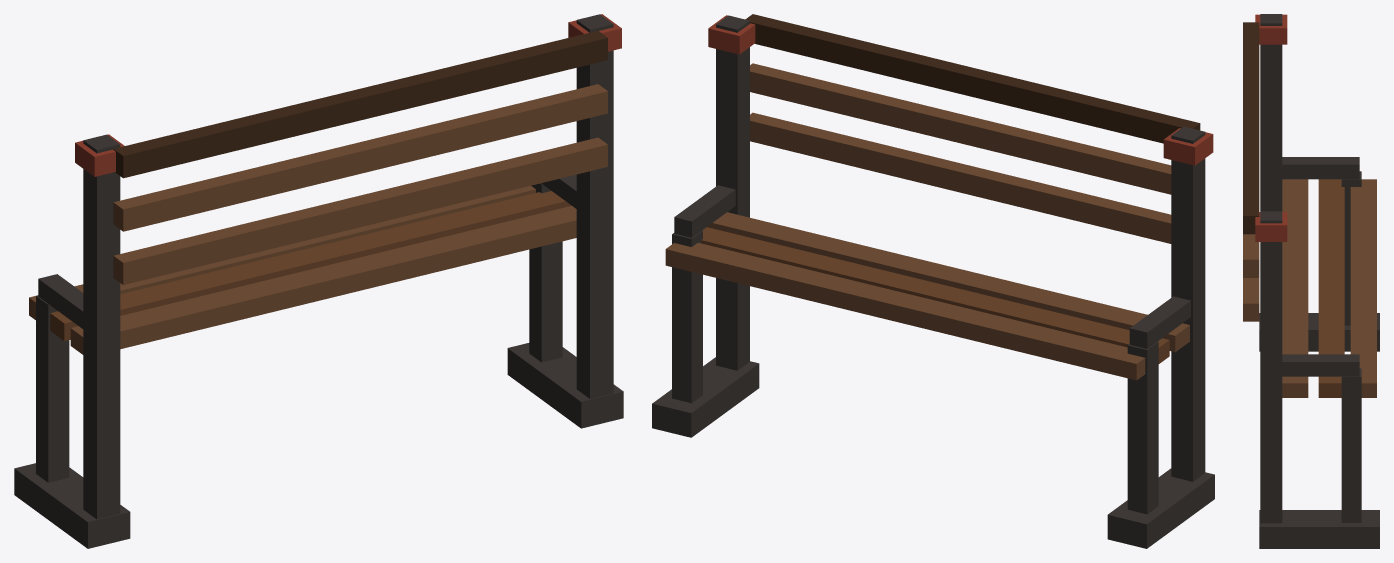
Rendered from vn_deco_plaza_bench.glb.
The picture shows the model from 3 angles, left to right: view 1: azimuth 30°, elevation 25°; view 2: azimuth 150°, elevation 25°; view 3: azimuth 270°, elevation 25°; orthographic projection. The views are drawn at different scales.
Parts seen in each view (by area): view 1: plaza_bench_wood, plaza_bench_iron; view 2: plaza_bench_wood, plaza_bench_iron; view 3: plaza_bench_iron, plaza_bench_wood.
Part boxes in pixels (x1=…): plaza_bench_wood: x1=29, y1=30, x2=607, y2=354; plaza_bench_iron: x1=14, y1=14, x2=623, y2=548; plaza_bench_wood: x1=665, y1=14, x2=1200, y2=380; plaza_bench_iron: x1=652, y1=15, x2=1214, y2=548; plaza_bench_iron: x1=1255, y1=14, x2=1379, y2=548; plaza_bench_wood: x1=1243, y1=22, x2=1376, y2=397.
Size of the model in its own units: 1.26 by 0.89 by 0.34.
